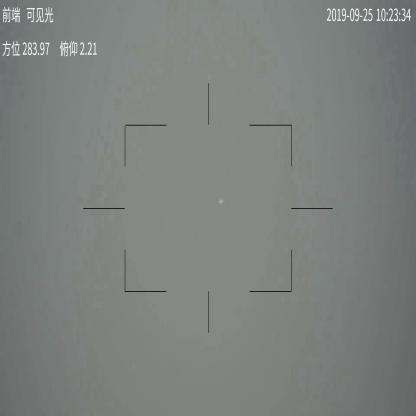uav: (217, 196, 225, 207)
